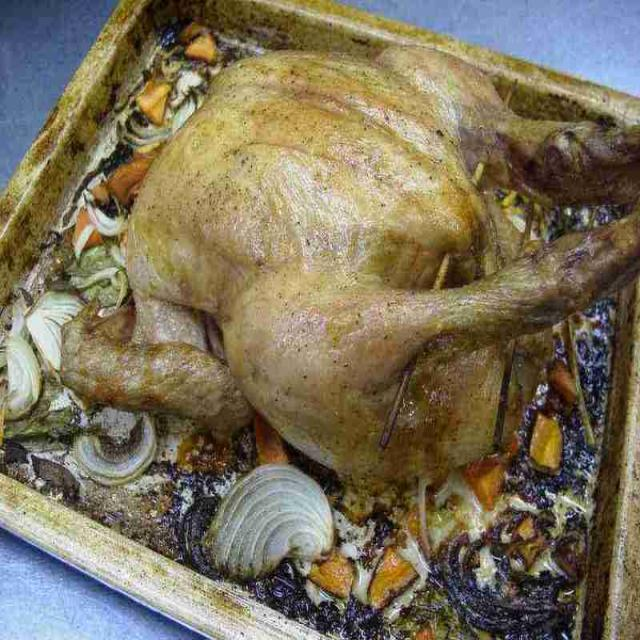Chicken: (59, 38, 640, 476)
